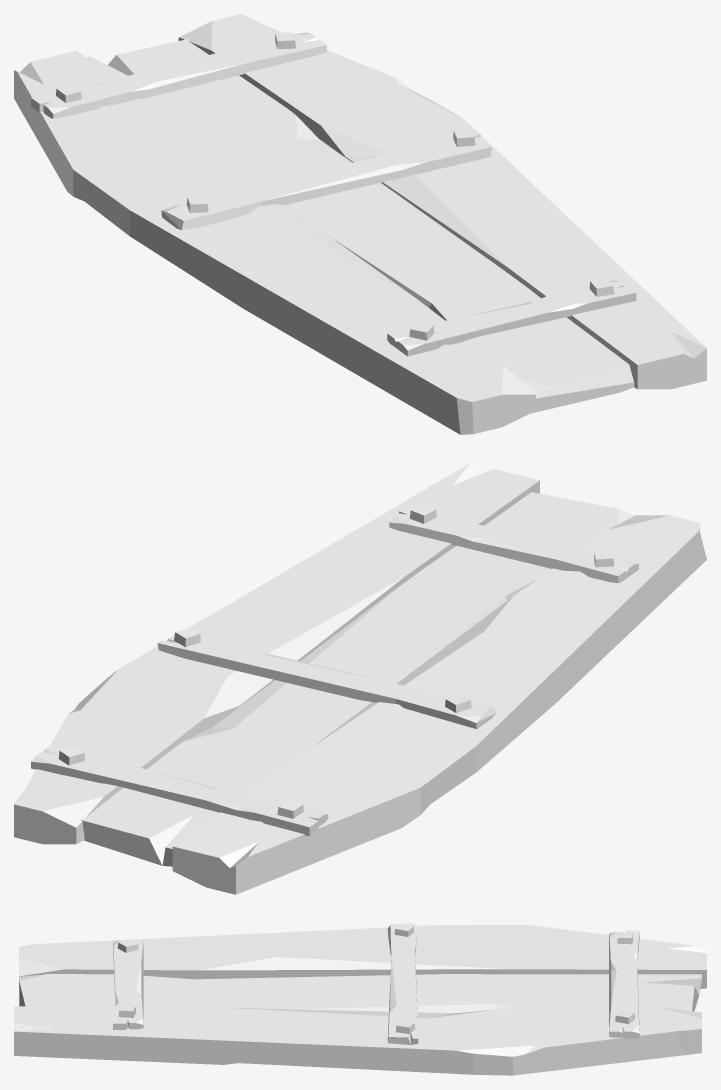
Rendered from Coffin Lid.fbx.
The picture shows the model from 3 angles, top to bottom: view 1: azimuth 30°, elevation 25°; view 2: azimuth 150°, elevation 25°; view 3: azimuth 270°, elevation 25°; orthographic projection. The views are drawn at different scales.
Visible parts, largest first — view 1: Coffin Lid; view 2: Coffin Lid; view 3: Coffin Lid.
Part boxes in pixels (x1,y1,x2,y2): Coffin Lid: (14,14,706,434); Coffin Lid: (14,463,706,894); Coffin Lid: (14,923,706,1075).
Bounding box in the file's own units: 432 × 61.48 × 999.
1 material, 1 textured.
